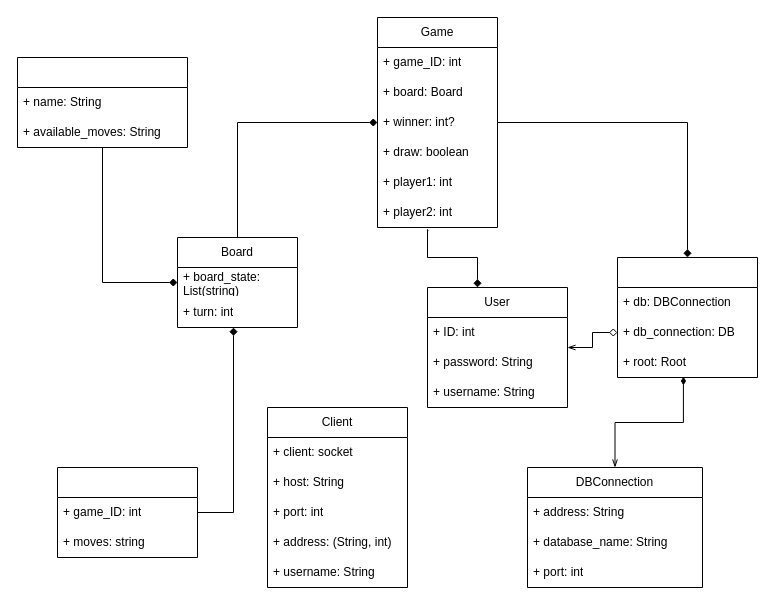
Image size: 775x605. Some labels were removed from this diagram. Each missing label, with the box of its shape:
Chess Pieces: (16, 56, 188, 148)
Database: (616, 256, 758, 378)
GameLog: (56, 466, 198, 558)
